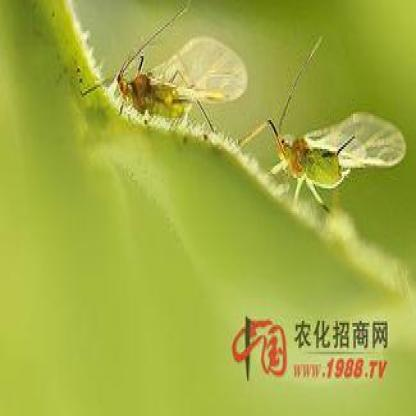aphid: (252, 38, 414, 213), (100, 16, 252, 148)
